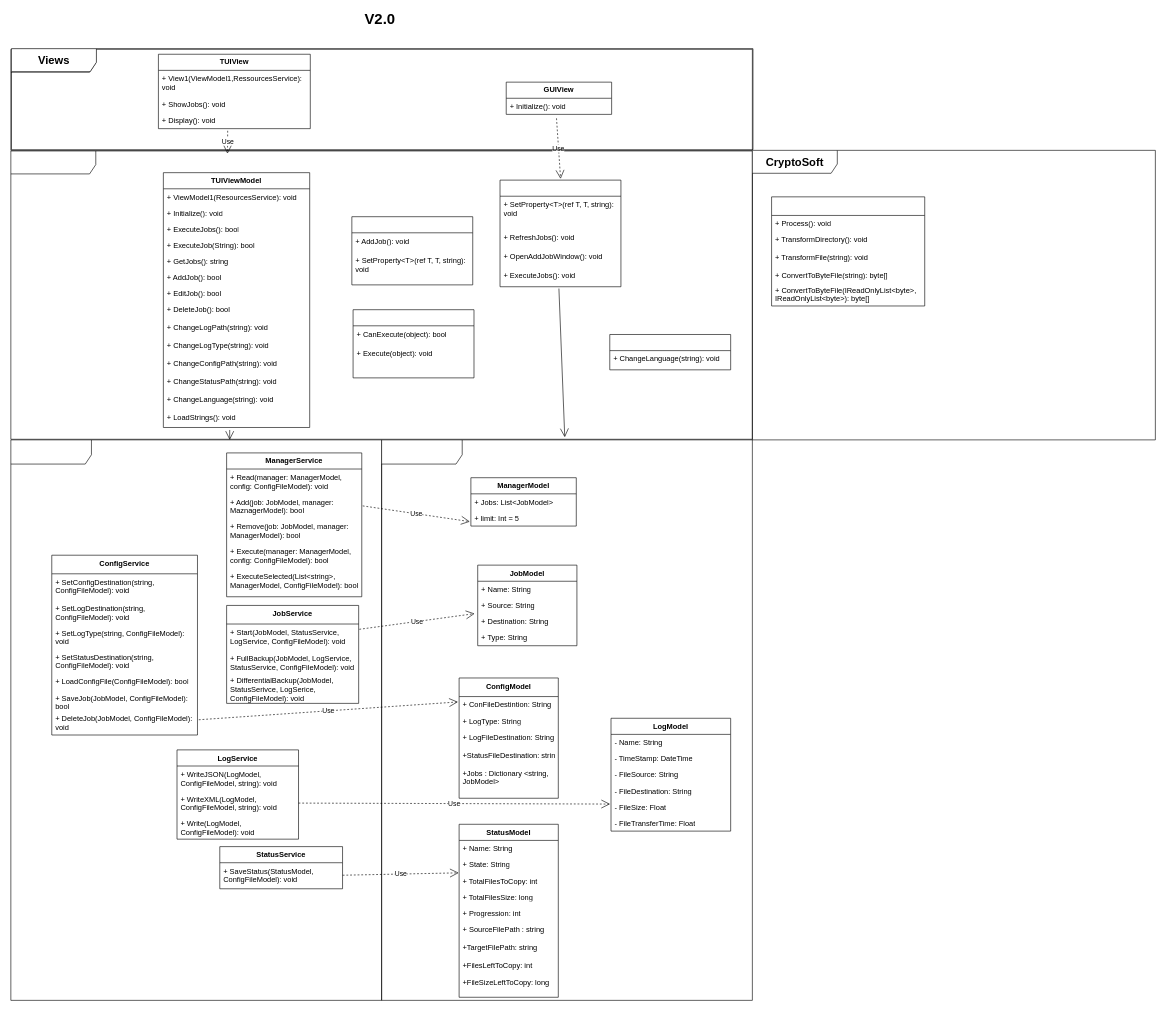
This 1166x1011 diagram has some shape labels left out. The shapes that lost their labels are listed below. From the top down, each one's box as (x1, y1, x2, y2) in pixels, then its label:
(351, 216, 473, 285): AddJobViewModel
(499, 179, 621, 287): MainWindowViewModel
(771, 196, 925, 306): Cipher
(10, 150, 752, 439): ViewModels
(352, 309, 474, 378): RelayCommand
(609, 334, 731, 370): LanguageViewModel
(10, 439, 382, 1000): Services
(381, 439, 752, 1000): Models
